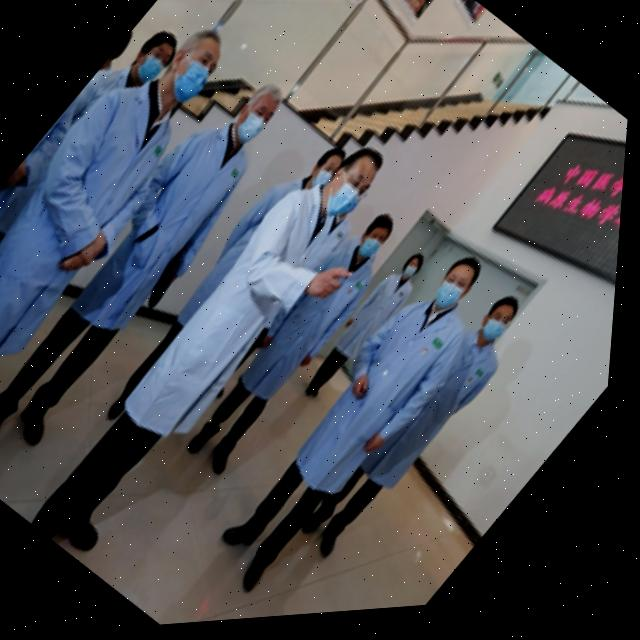Mask: (156, 46, 222, 113), (223, 101, 276, 154), (318, 179, 369, 231), (122, 44, 172, 95), (431, 284, 470, 322), (479, 320, 516, 356), (309, 171, 338, 201), (357, 239, 387, 268), (404, 269, 423, 288)
